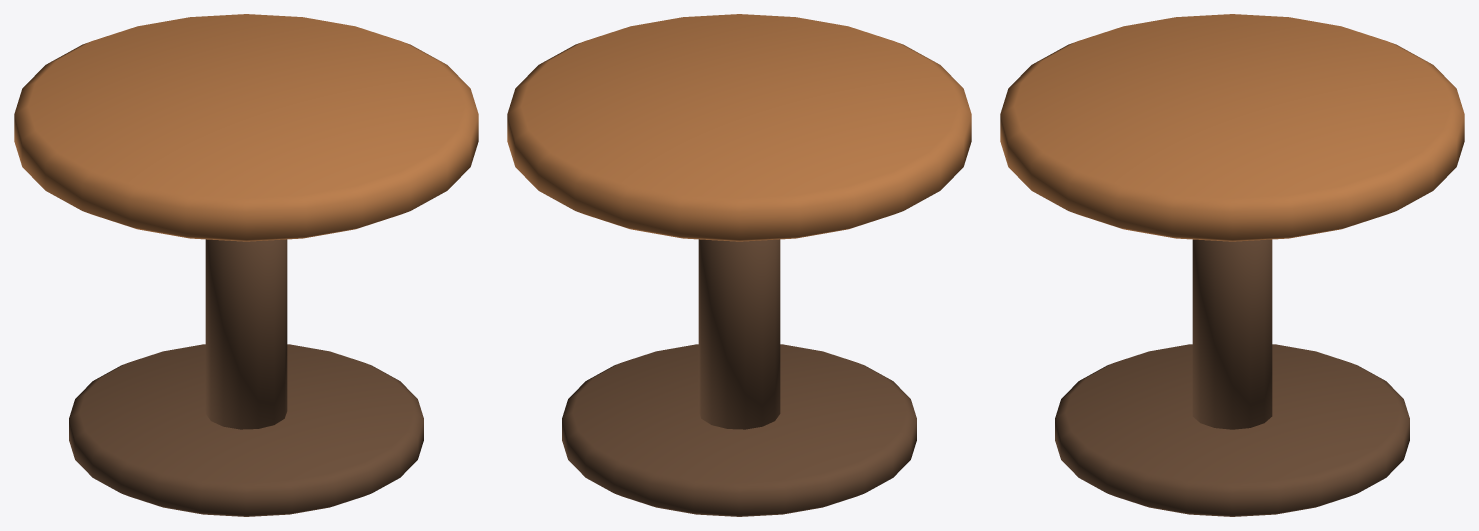
File: sideTable.glb
3 renders of one model, left to right at view 1: azimuth 30°, elevation 25°; view 2: azimuth 150°, elevation 25°; view 3: azimuth 270°, elevation 25°, orthographic.
Visible parts, largest first — view 1: sideTable_top, sideTable_base, sideTable_column; view 2: sideTable_top, sideTable_base, sideTable_column; view 3: sideTable_top, sideTable_base, sideTable_column.
Boxes of the visible parts, x1,y1,x2,y2 form: sideTable_top: (14, 14, 478, 241); sideTable_base: (69, 344, 423, 516); sideTable_column: (205, 239, 287, 429); sideTable_top: (507, 14, 971, 241); sideTable_base: (562, 344, 916, 516); sideTable_column: (698, 239, 780, 429); sideTable_top: (1000, 14, 1464, 241); sideTable_base: (1055, 344, 1409, 516); sideTable_column: (1192, 239, 1272, 429).
Bounding box in the file's own units: 0.68 × 0.55 × 0.68.
